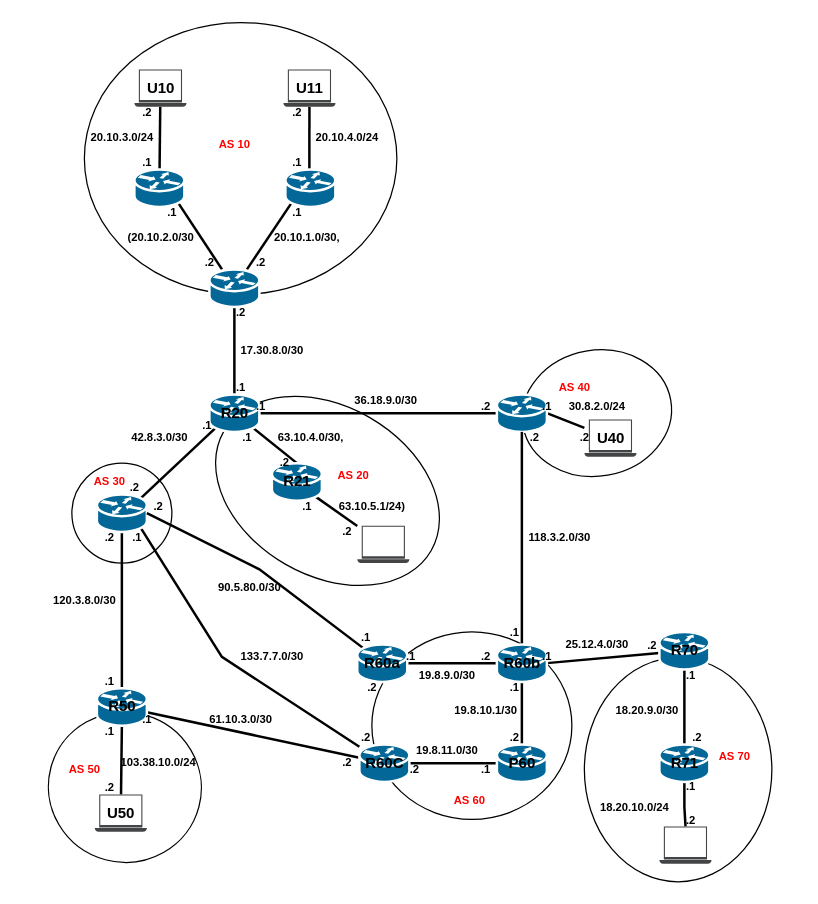
The diagram is 818 pixels wide and 904 high, and some of its shapes have lost their labels. Here are the shapes that lost their labels. From the top down, the centre of each, then its label:
point (158, 188): R12
point (310, 188): R11
point (234, 288): R10
point (521, 412): R40
point (121, 512): R30
point (383, 543): U20
point (685, 844): U70
